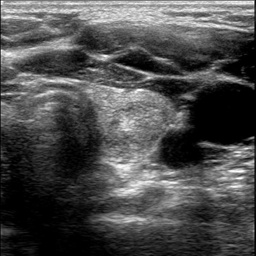mass: (98, 91, 167, 163)
